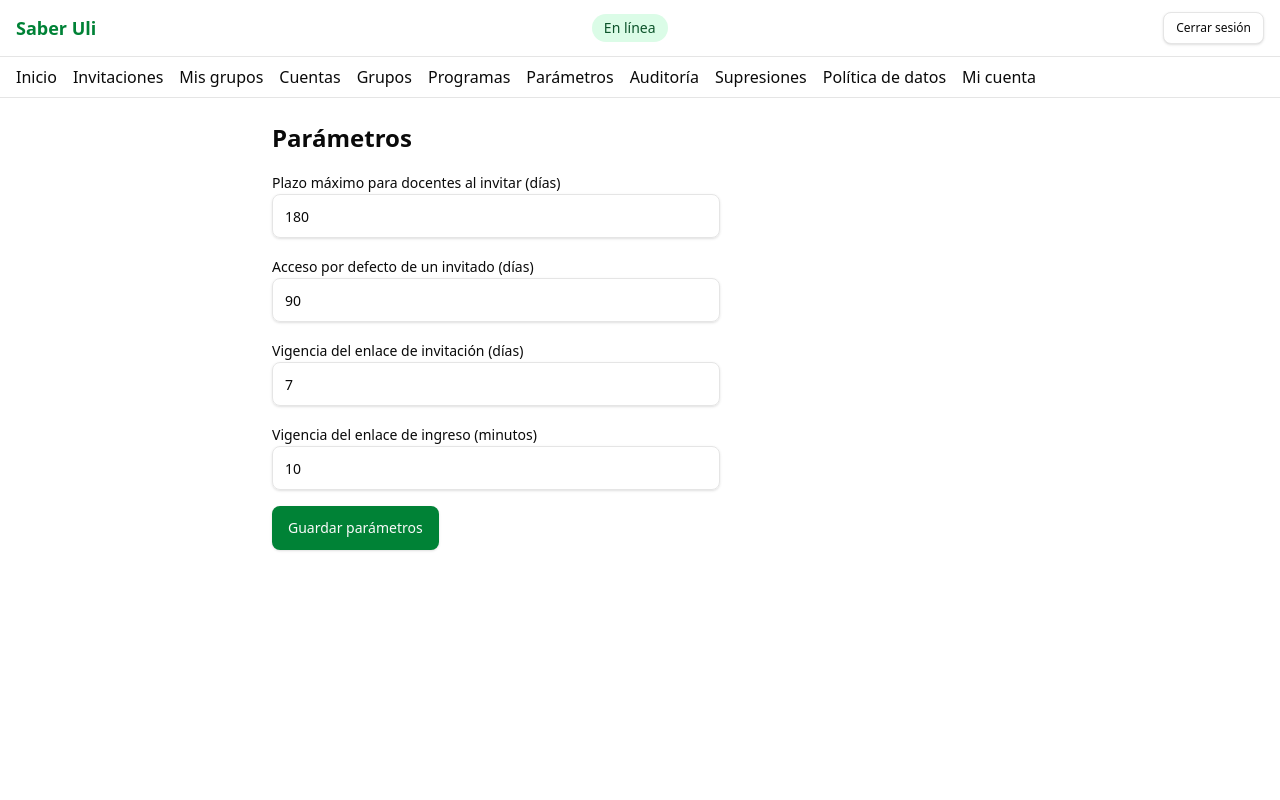
Test case: parámetros › envía solo lo que cambió
The width and height of the screenshot is (1280, 800).
Replace the text in the number field labelled "Plazo máximo para docentes al invitar (días)" with "120" at [496, 216], box [272,194,720,238]
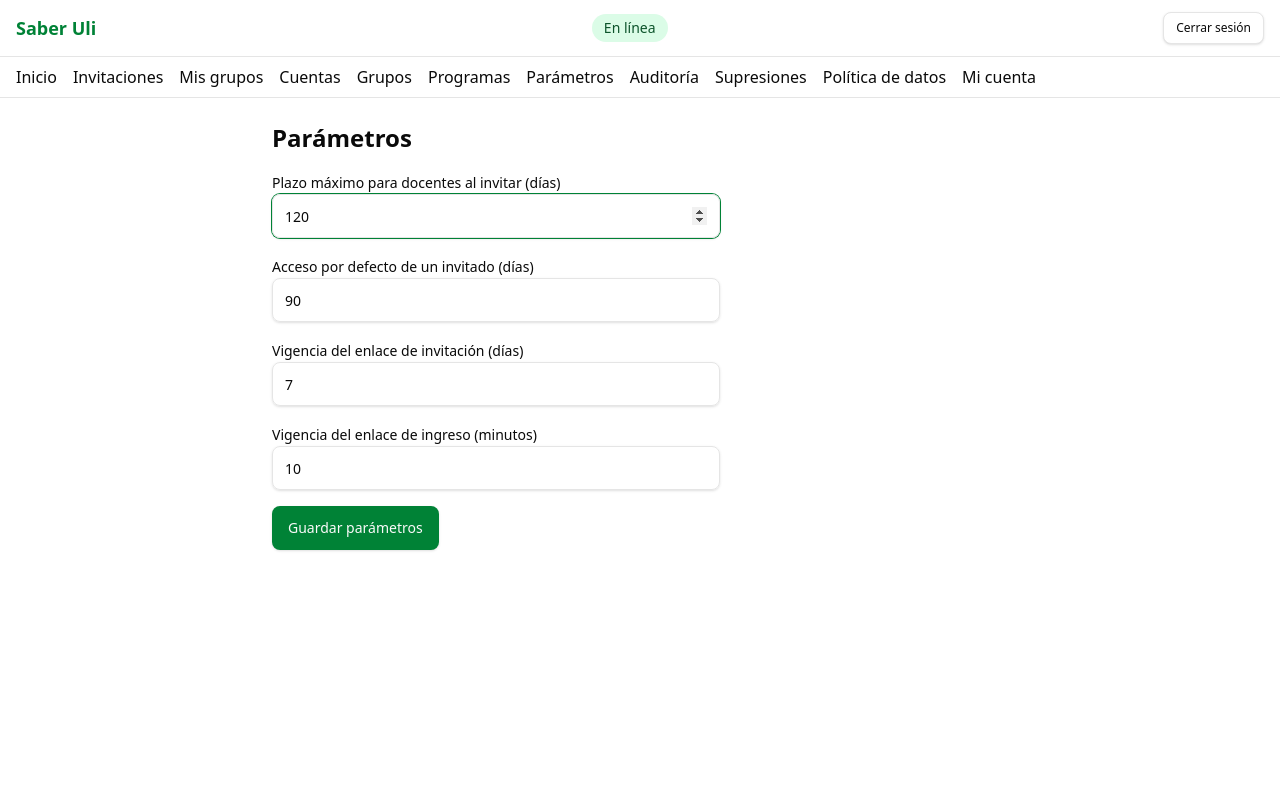
Click the button "Guardar parámetros".
click(355, 528)  # box [272,506,439,550]
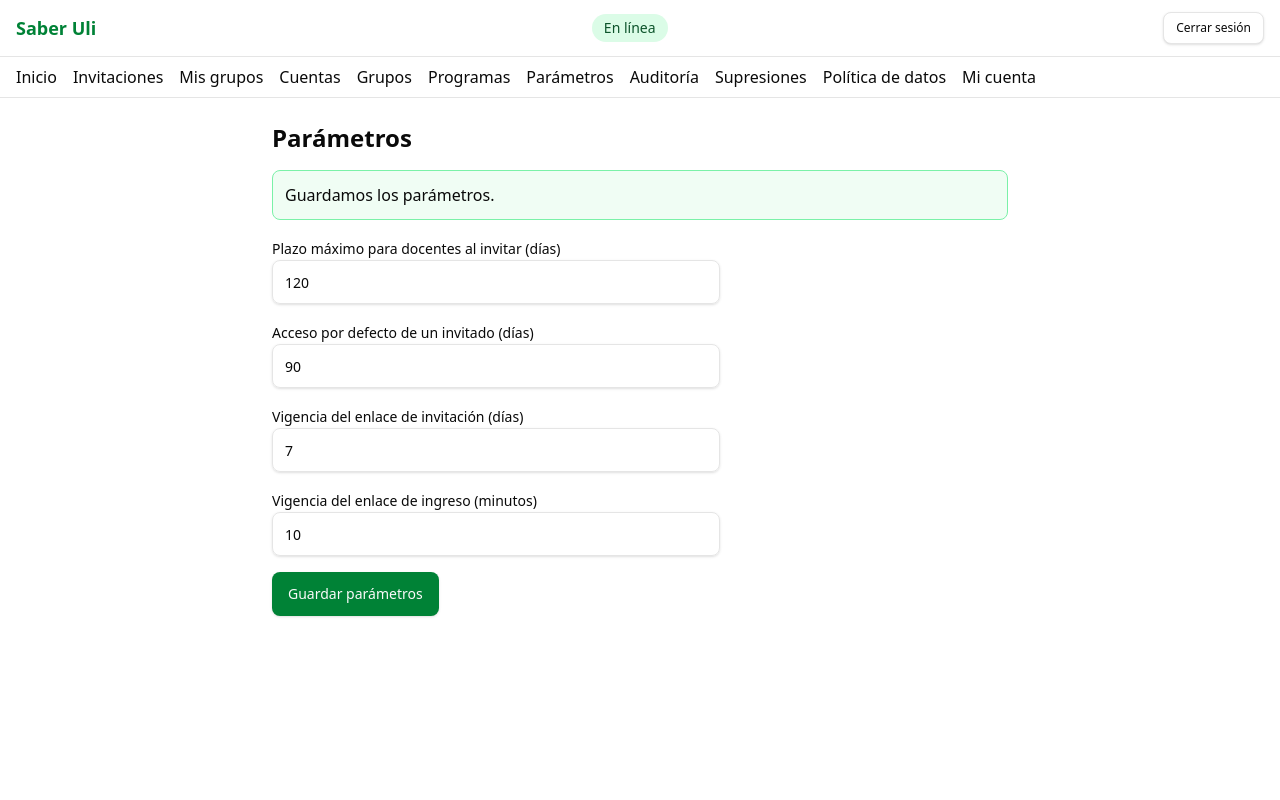
Now the text "Guardamos los parámetros." is shown, box [272,170,1008,220]
